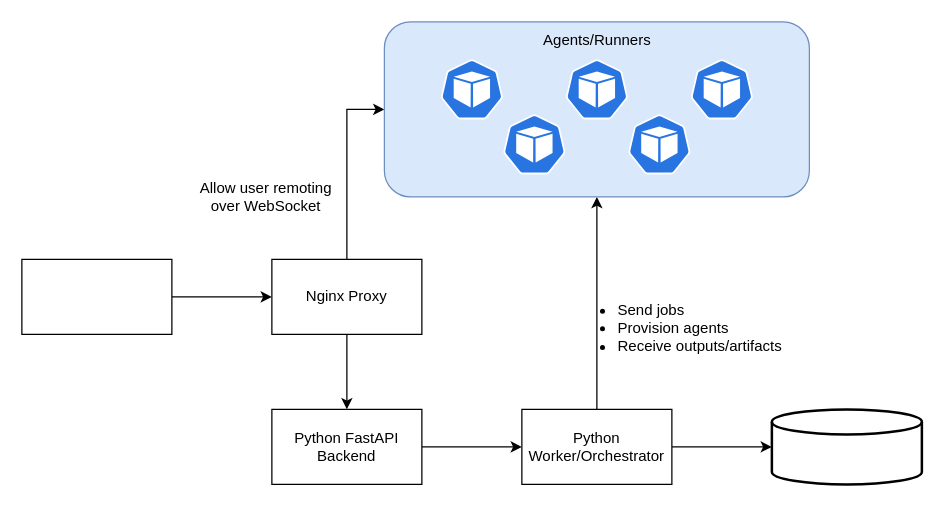
The diagram is 945 pixels wide and 508 high, and some of its shapes have lost their labels. Each missing label, with the box of its shape:
MongoDB: (770, 408, 922, 485)
Web Frontend: (21, 258, 172, 334)
